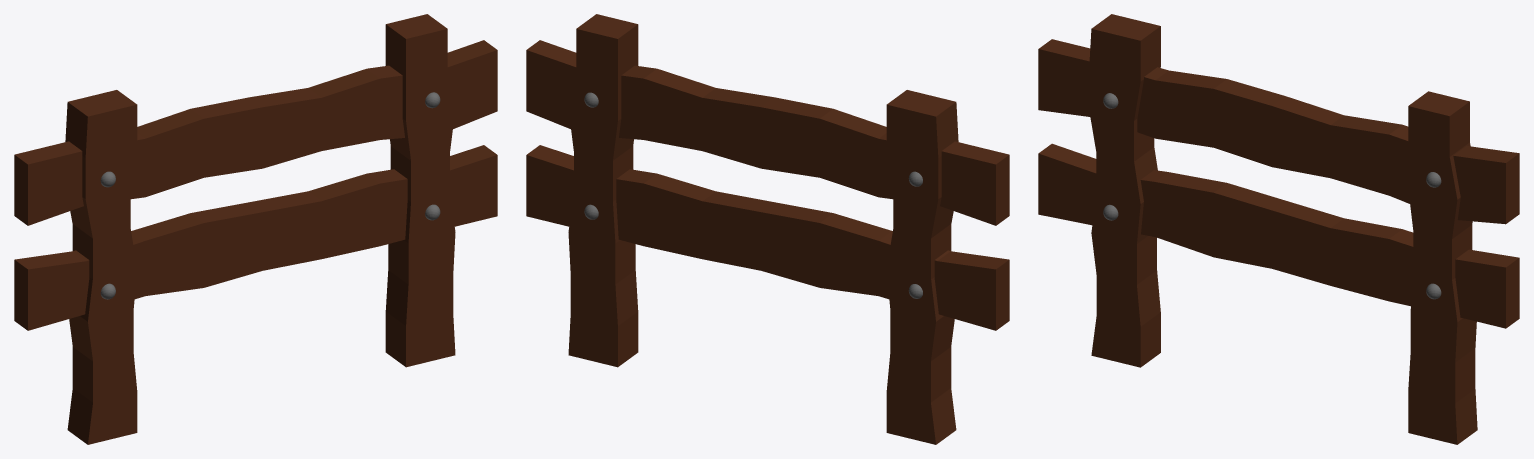
Rendered from cerca.fbx.
The picture shows the model from 3 angles, left to right: view 1: azimuth 30°, elevation 25°; view 2: azimuth 150°, elevation 25°; view 3: azimuth 330°, elevation 25°; orthographic projection.
Parts seen in each view (by area): view 1: Cerca; view 2: Cerca; view 3: Cerca.
Part boxes in pixels (left/top/right/bottom): Cerca: left=14, top=14, right=497, bottom=444; Cerca: left=526, top=14, right=1009, bottom=444; Cerca: left=1038, top=14, right=1519, bottom=444.
Bounding box in the file's own units: 400 × 267 × 40.63.
